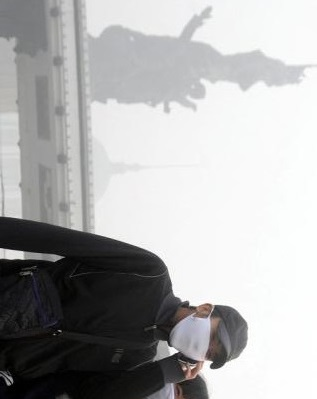person: (1, 215, 248, 388)
